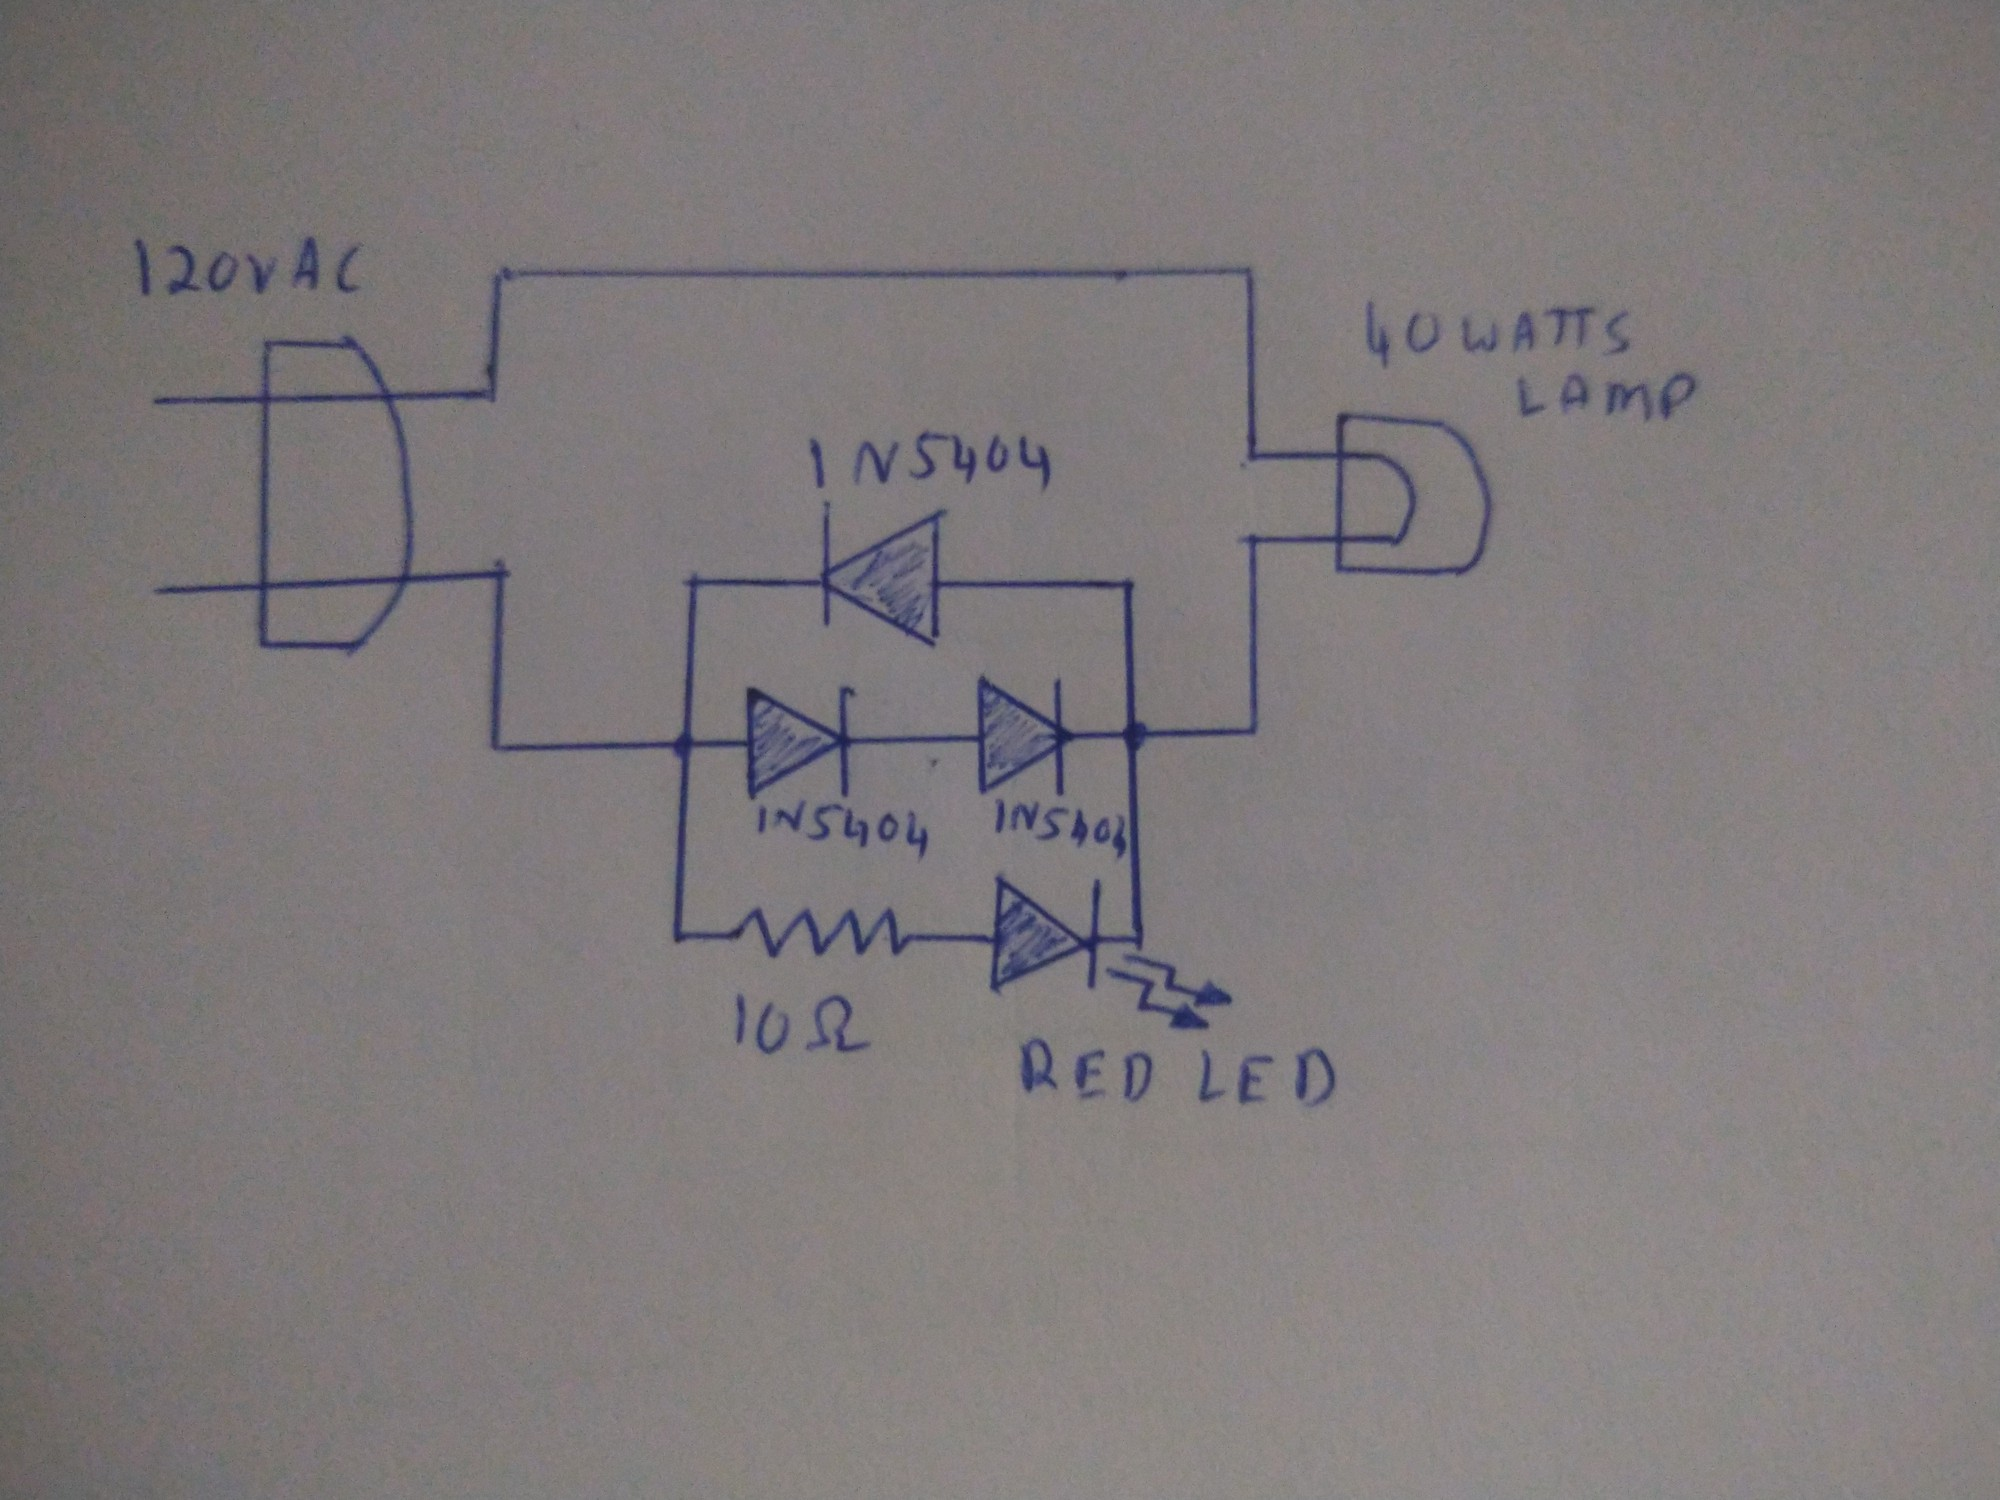diode: (806, 496, 954, 660), (731, 678, 868, 800), (961, 663, 1080, 804)
diode.light_emitting: (984, 871, 1238, 1034)
junction: (666, 722, 709, 767), (1115, 718, 1157, 755), (483, 553, 520, 592), (658, 919, 698, 955), (472, 378, 509, 413), (485, 258, 521, 291), (677, 564, 713, 596), (479, 733, 515, 763), (1112, 567, 1145, 599), (1236, 443, 1271, 473), (1236, 257, 1265, 285), (1236, 529, 1272, 551), (1239, 718, 1265, 742)
lamp: (1329, 403, 1499, 583)
resistor: (721, 897, 917, 969)
socket: (250, 329, 420, 655)
terminal: (135, 391, 169, 413), (142, 581, 172, 600)
text: (1006, 1030, 1350, 1120), (1353, 288, 1647, 373), (795, 424, 1065, 503), (123, 228, 383, 306), (1499, 362, 1702, 433), (745, 796, 940, 867), (720, 986, 876, 1064), (981, 793, 1131, 860)
